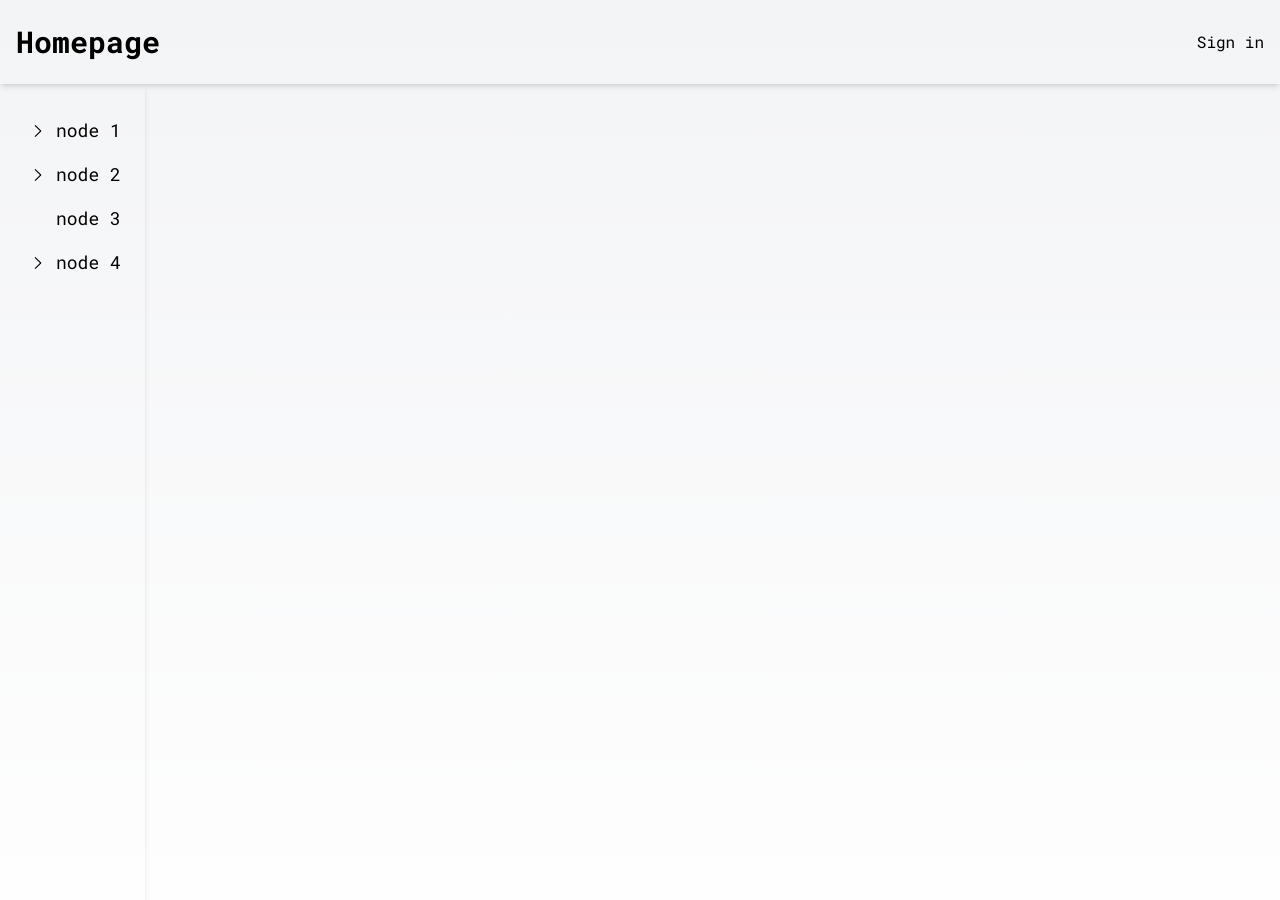
Test: test homepage › shows the login form when `Sign in` is clicked
The width and height of the screenshot is (1280, 900).
Click the button "Sign in" at (1230, 42), box [1197,30,1264,54]
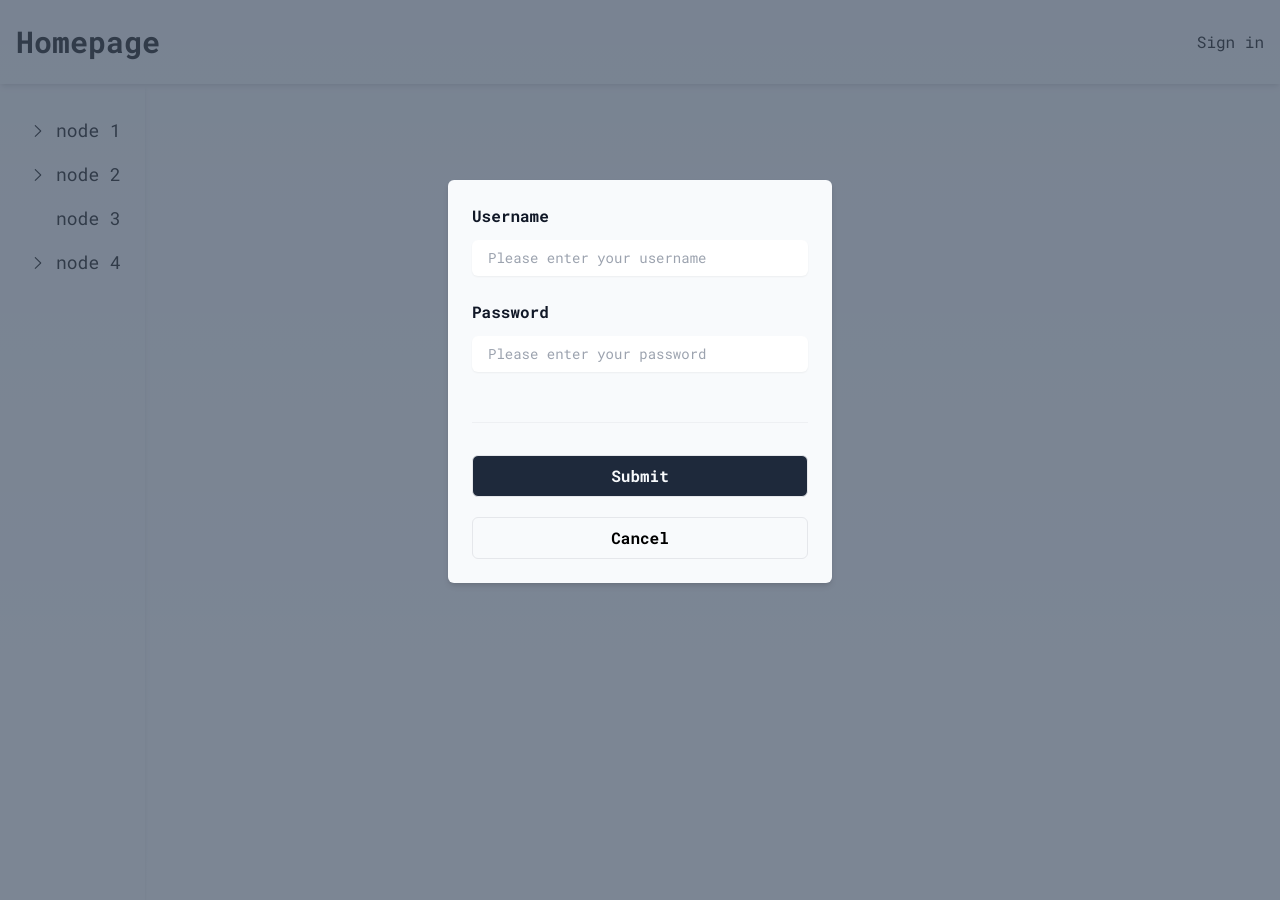
Expected: the form with test id "login-form" is shown, [472,204,808,559]
